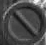No waiting: (1, 1, 43, 40)
